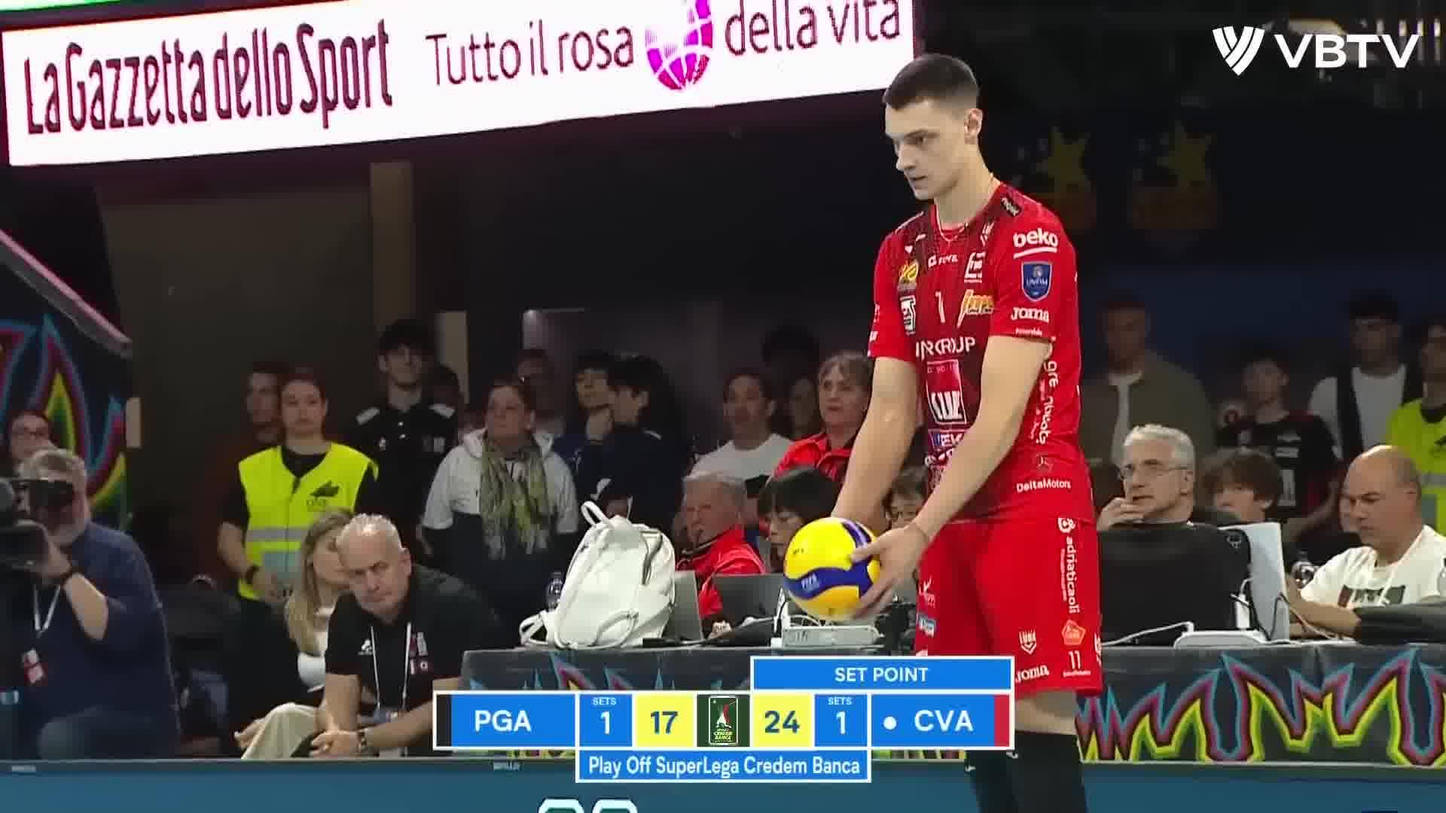balls: (778, 513, 883, 626)
